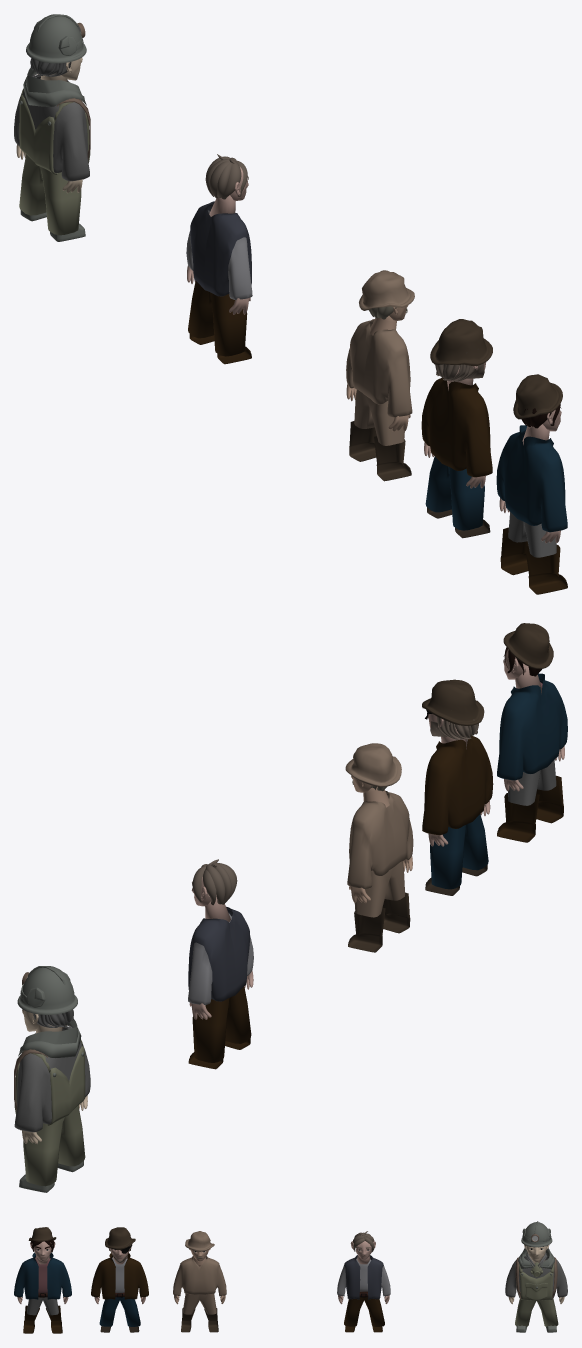
File: character2.fbx
3 views of the same model, one above another, from view 1: azimuth 30°, elevation 25°; view 2: azimuth 150°, elevation 25°; view 3: azimuth 270°, elevation 25° (orthographic). The views are drawn at different scales.
Visible parts, largest first — view 1: Cube.057, Cube.050, Cube.034, Cube.046, Cube.010, Cube.012, Cube.033, Cube.048, Cube.032, Sphere.011, Cube.045, Sphere.002 (+7 smaller); view 2: Cube.057, Cube.050, Cube.034, Cube.046, Cube.010, Cube.012, Cube.033, Cube.048, Cube.032, Sphere.011, Cube.045, Sphere.002 (+7 smaller); view 3: Cube.057, Cube.050, Cube.046, Cube.034, Cube.010, Cube.033, Cube.048, Cube.012, Cube.044, Cube.009, Cube.032, Sphere.011 (+14 smaller).
Boxes of the visible parts, bbox=[...] form: Cube.057: bbox=[496, 425, 567, 532]; Cube.050: bbox=[421, 378, 492, 477]; Cube.034: bbox=[186, 201, 252, 299]; Cube.046: bbox=[346, 319, 412, 417]; Cube.010: bbox=[14, 74, 89, 181]; Cube.012: bbox=[19, 154, 81, 235]; Cube.033: bbox=[188, 281, 247, 356]; Cube.048: bbox=[425, 456, 484, 530]; Cube.032: bbox=[500, 527, 567, 594]; Sphere.011: bbox=[430, 319, 492, 365]; Cube.045: bbox=[349, 421, 411, 481]; Sphere.002: bbox=[26, 14, 86, 63]; Cube.057: bbox=[497, 673, 567, 780]; Cube.050: bbox=[422, 736, 493, 835]; Cube.034: bbox=[188, 906, 253, 1005]; Cube.046: bbox=[347, 791, 413, 888]; Cube.010: bbox=[14, 1026, 90, 1132]; Cube.012: bbox=[23, 1105, 85, 1186]; Cube.033: bbox=[192, 986, 251, 1062]; Cube.048: bbox=[430, 814, 488, 889]; Cube.032: bbox=[497, 775, 563, 842]; Sphere.011: bbox=[422, 679, 484, 725]; Cube.045: bbox=[348, 892, 410, 952]; Sphere.002: bbox=[17, 966, 77, 1014]; Cube.057: bbox=[14, 1252, 71, 1299]; Cube.050: bbox=[91, 1253, 148, 1299]; Cube.046: bbox=[173, 1256, 226, 1296]; Cube.034: bbox=[337, 1255, 390, 1299]; Cube.010: bbox=[505, 1256, 567, 1298]; Cube.033: bbox=[344, 1292, 384, 1326]; Cube.048: bbox=[99, 1294, 140, 1326]; Cube.012: bbox=[515, 1299, 558, 1326]; Cube.044: bbox=[183, 1293, 216, 1314]; Cube.009: bbox=[519, 1272, 553, 1300]; Cube.032: bbox=[23, 1305, 62, 1333]; Sphere.011: bbox=[105, 1227, 135, 1249].
Bounding box in the file's own units: 51.35 × 186 × 861.
